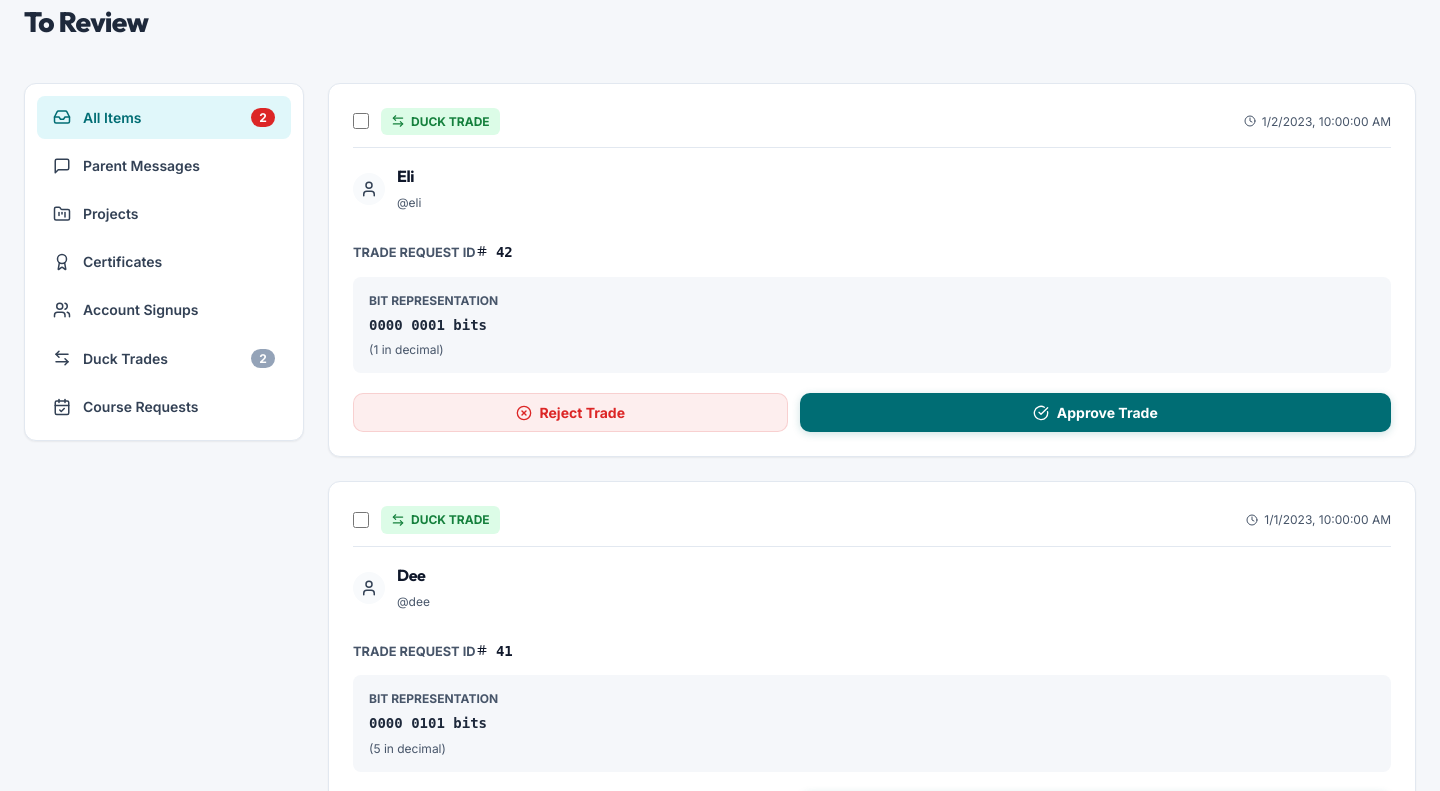
Test: ToReview Component › review actions › duck trades › confirms with a destructive prompt before rejecting a trade
Expected: the text "All Items" is shown, [83, 109, 142, 126]
Click the text "Duck Trades" at (126, 358), box [83, 350, 168, 367]
(page scrolled)
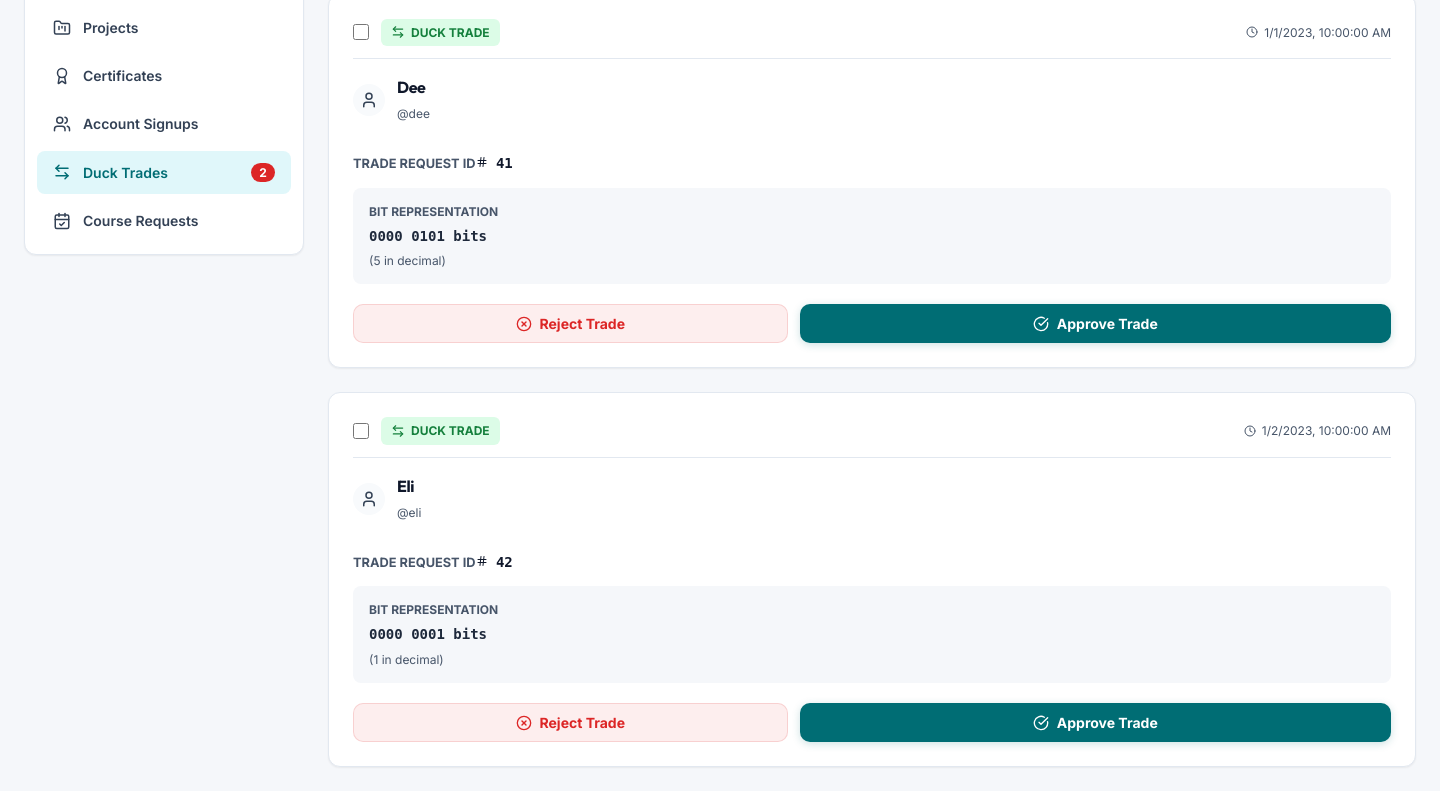
Click the button "Reject Trade" below "0000 0001" at (570, 723), box [353, 703, 788, 742]
(page scrolled)
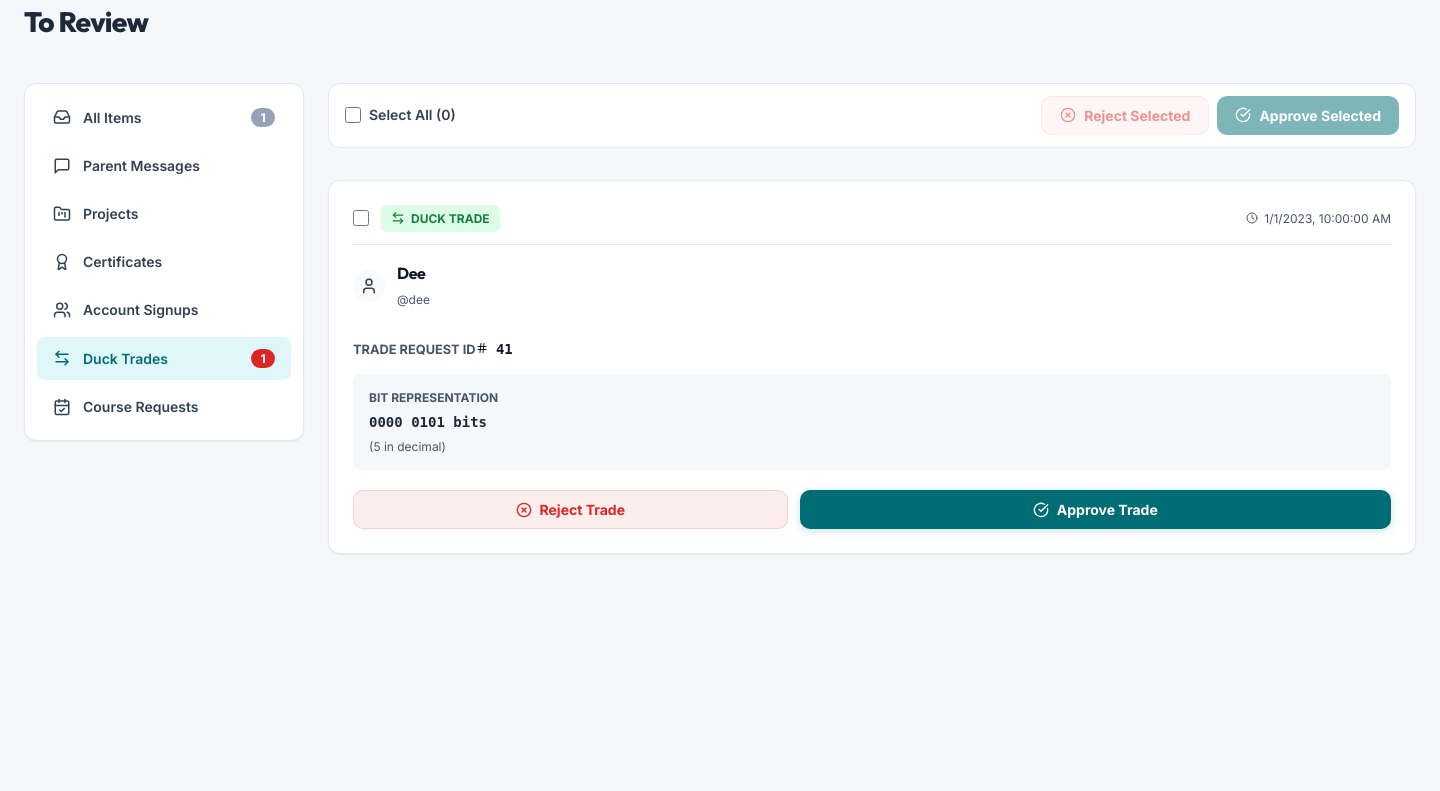
Now the text "@eli" is gone
